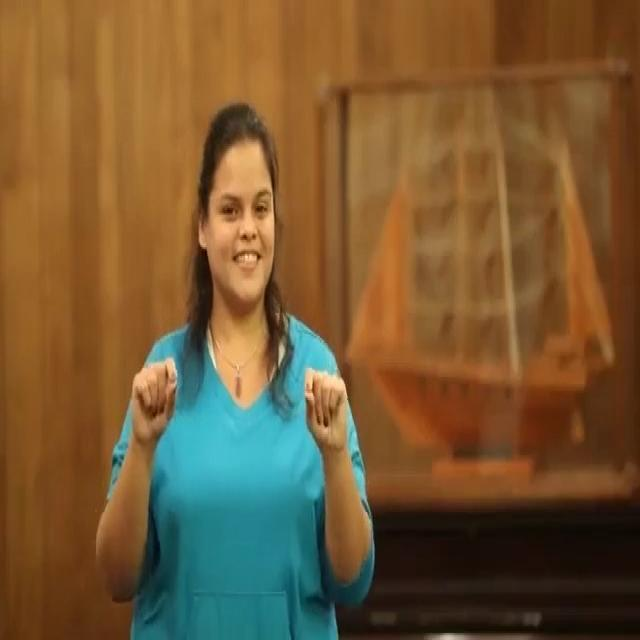bill: (120, 338, 358, 496)
